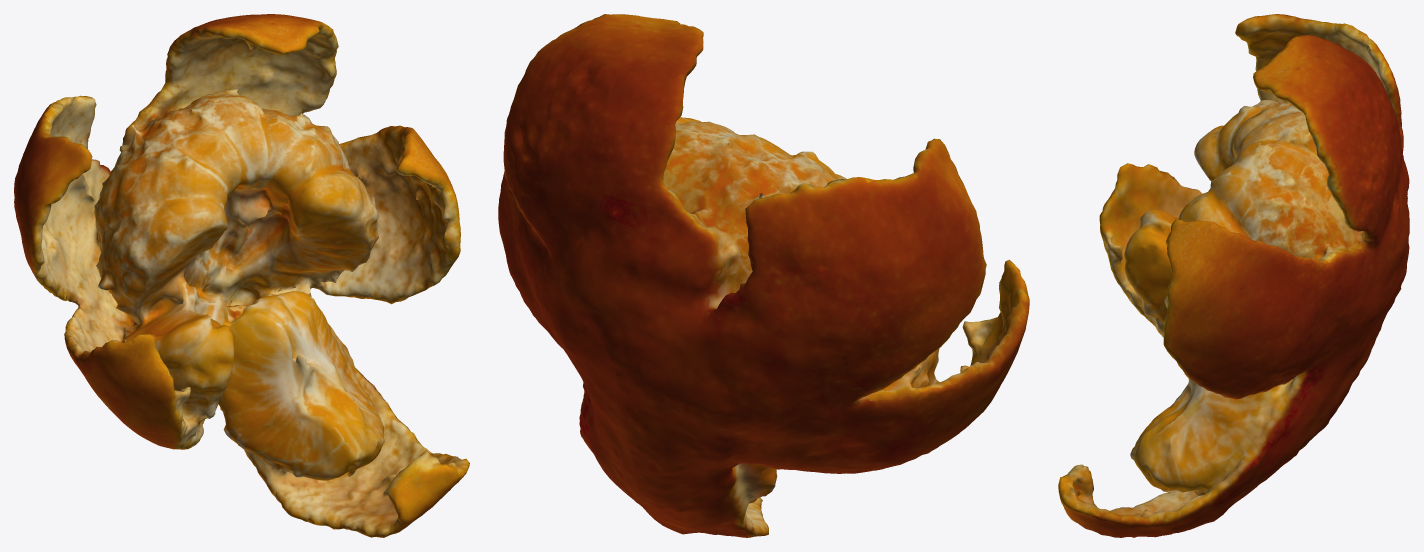
File: MandarinOrange.glb
3 views of the same model, side by side, from view 1: azimuth 30°, elevation 25°; view 2: azimuth 150°, elevation 25°; view 3: azimuth 270°, elevation 25° (orthographic). The views are drawn at different scales.
Parts seen in each view (by area): view 1: MandarinOrange; view 2: MandarinOrange; view 3: MandarinOrange.
Part boxes in pixels (left/top/right/bottom): MandarinOrange: left=14, top=14, right=469, bottom=537; MandarinOrange: left=498, top=14, right=1029, bottom=537; MandarinOrange: left=1058, top=14, right=1409, bottom=537.
Size of the model in its own units: 0.0157 by 0.0174 by 0.0119.
Materials: 1 (1 with a texture image).
